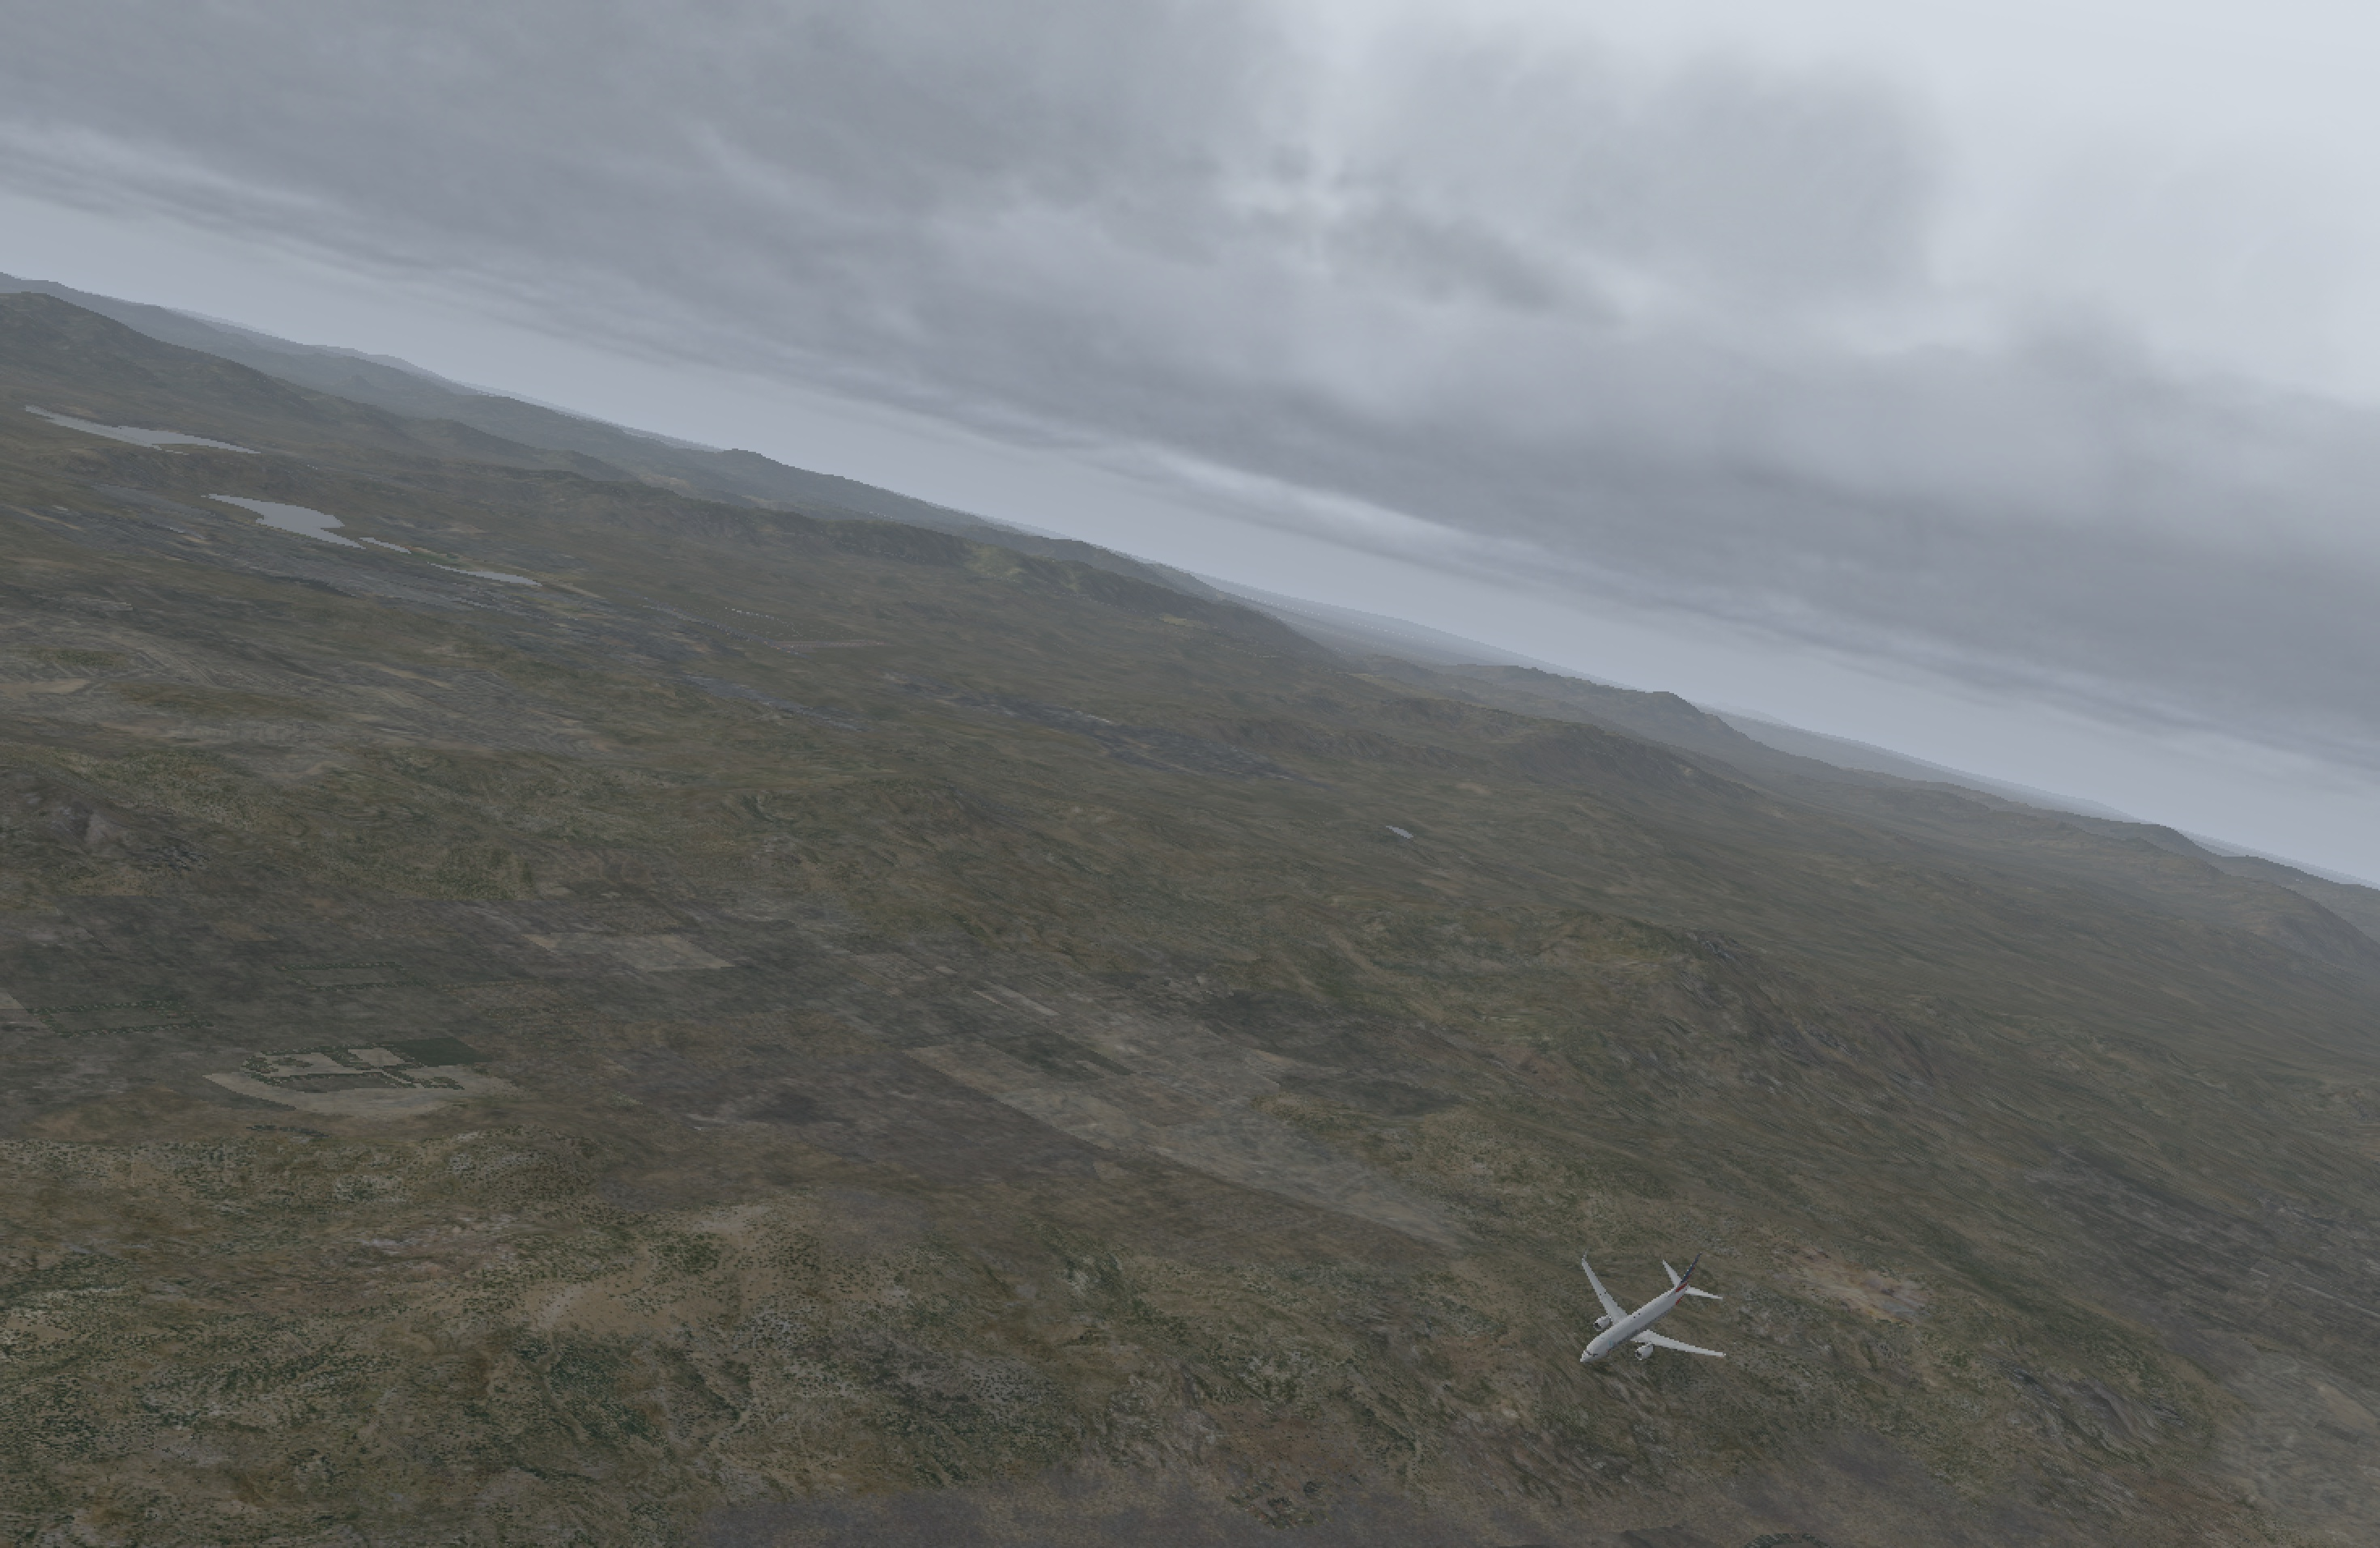aircraft: (1539, 1291, 1728, 1362)
